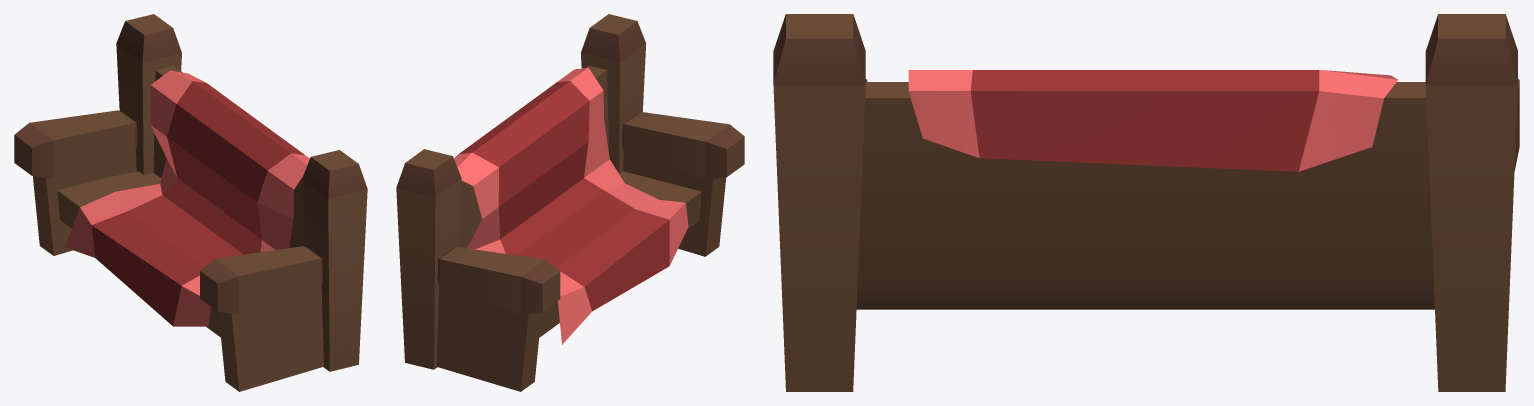
Rendered from Bench2.FBX.
The picture shows the model from 3 angles, left to right: view 1: azimuth 30°, elevation 25°; view 2: azimuth 150°, elevation 25°; view 3: azimuth 270°, elevation 25°; orthographic projection. The views are drawn at different scales.
Parts seen in each view (by area): view 1: Bench2; view 2: Bench2; view 3: Bench2.
Boxes of the visible parts, bbox=[...] form: Bench2: bbox=[14, 14, 367, 391]; Bench2: bbox=[396, 14, 744, 391]; Bench2: bbox=[773, 14, 1519, 391].
Size of the model in its own units: 0.6204 by 0.8085 by 1.53.
